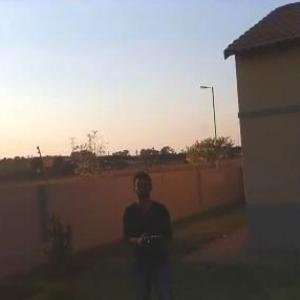follow: (118, 165, 180, 299)
